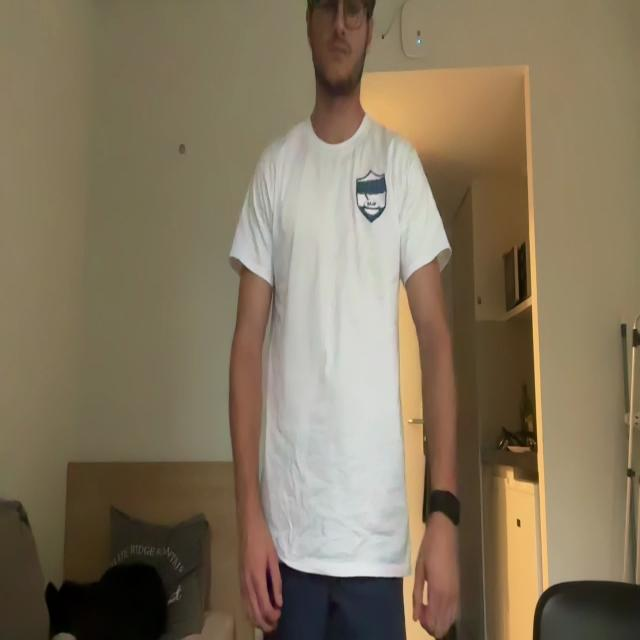elbow: (415, 308, 454, 356), (228, 324, 261, 368)
hand: (413, 513, 462, 634), (236, 524, 284, 628)
shoulder: (248, 146, 279, 232), (395, 137, 423, 217)
